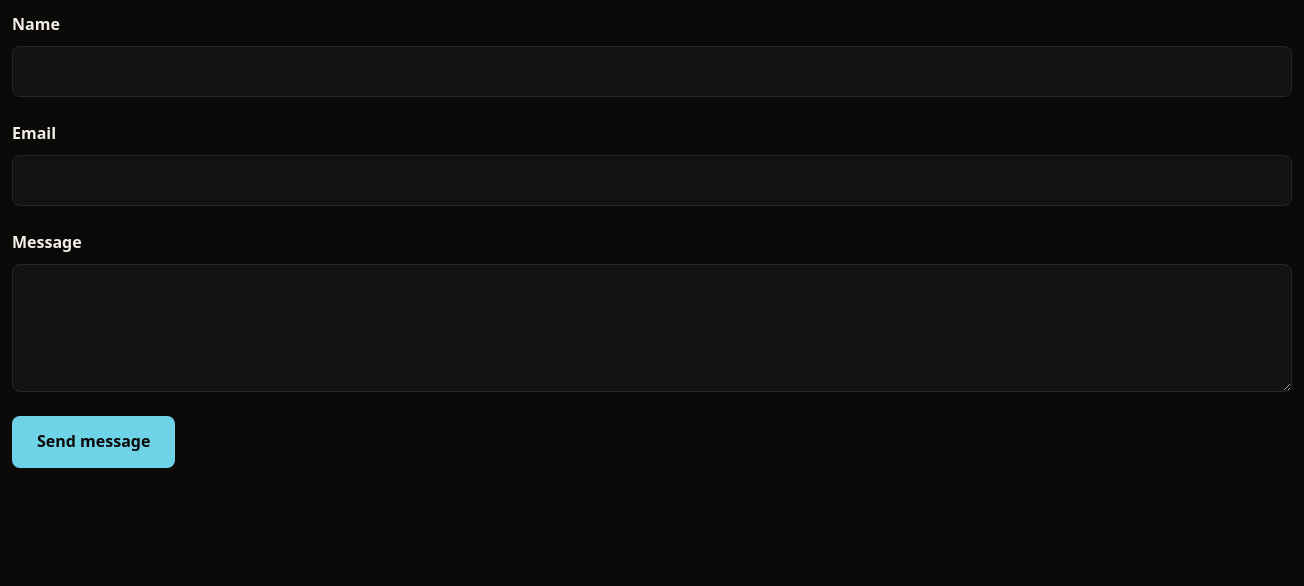
Test case: ContactForm › explains the rate limit and preserves values on a 429 response
Type "Ada Lovelace" into the field labelled "Name". click: (652, 71)
box: x1=12 y1=46 x2=1292 y2=97
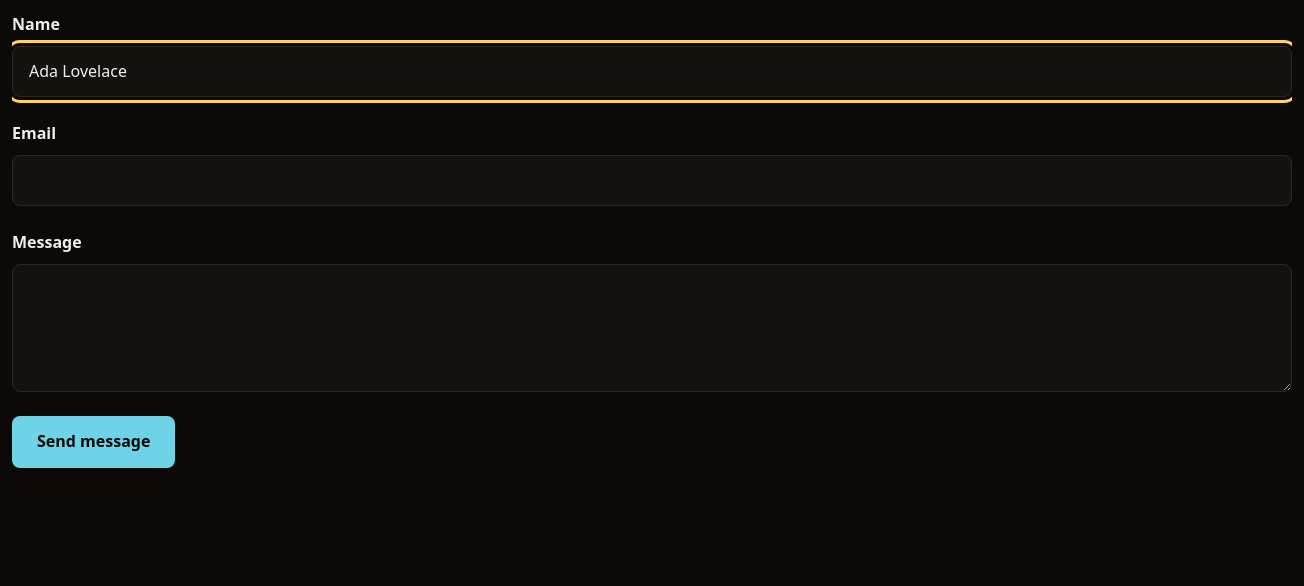
Type "ada@example.com" into the field labelled "Email". click: (652, 181)
box: x1=12 y1=155 x2=1292 y2=206
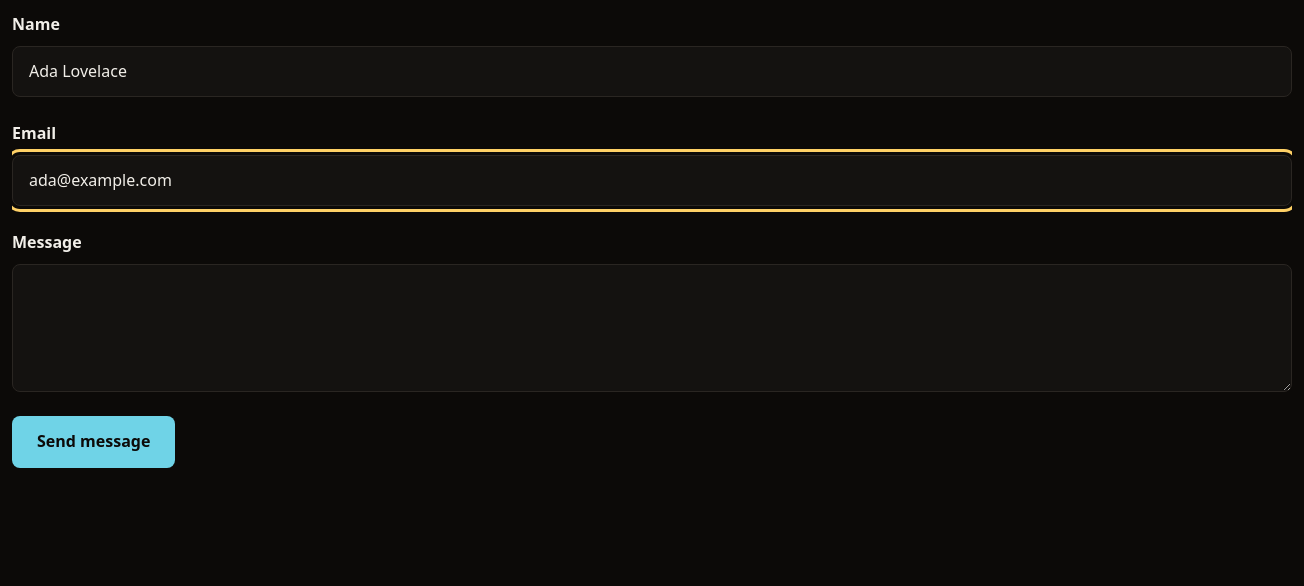
Type "Hello there" into the text box labelled "Message". click: (652, 328)
box: x1=12 y1=264 x2=1292 y2=392
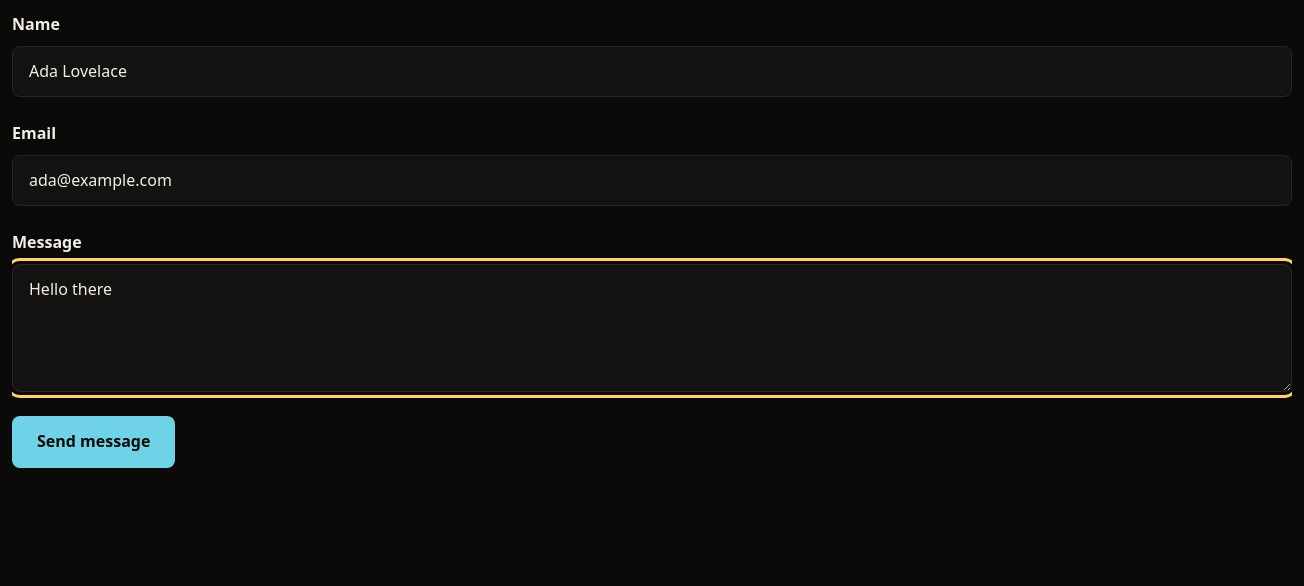
Click the button "Send message". click: (94, 442)
box: x1=12 y1=416 x2=175 y2=468
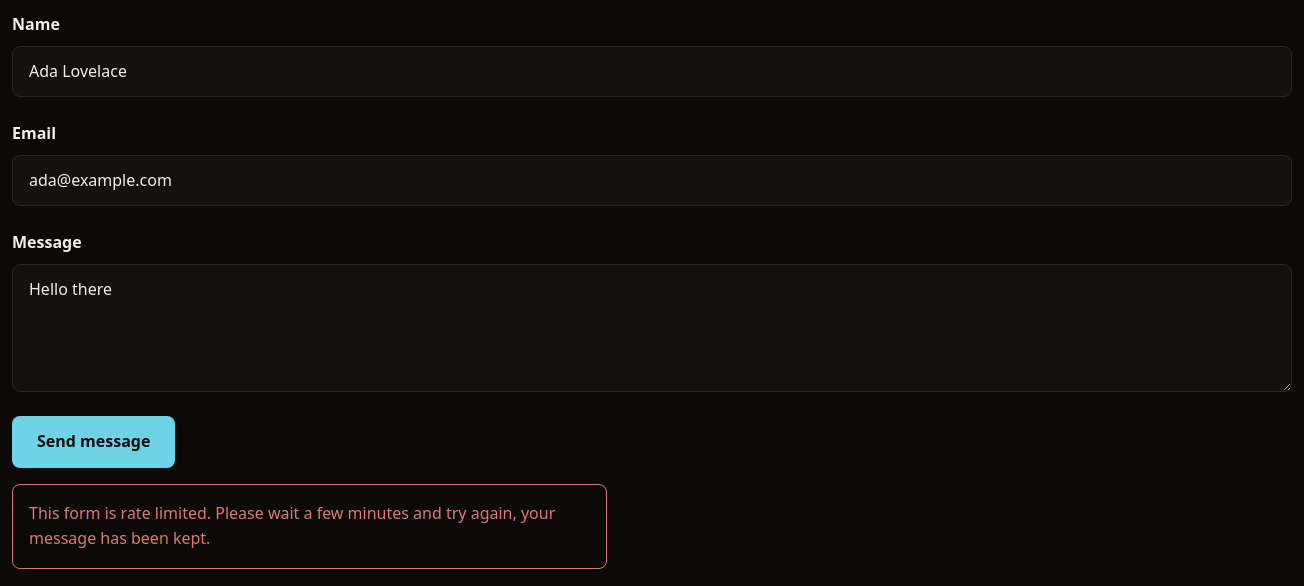
Expected: the text "rate limited" is shown, x1=29 y1=502 x2=555 y2=549
